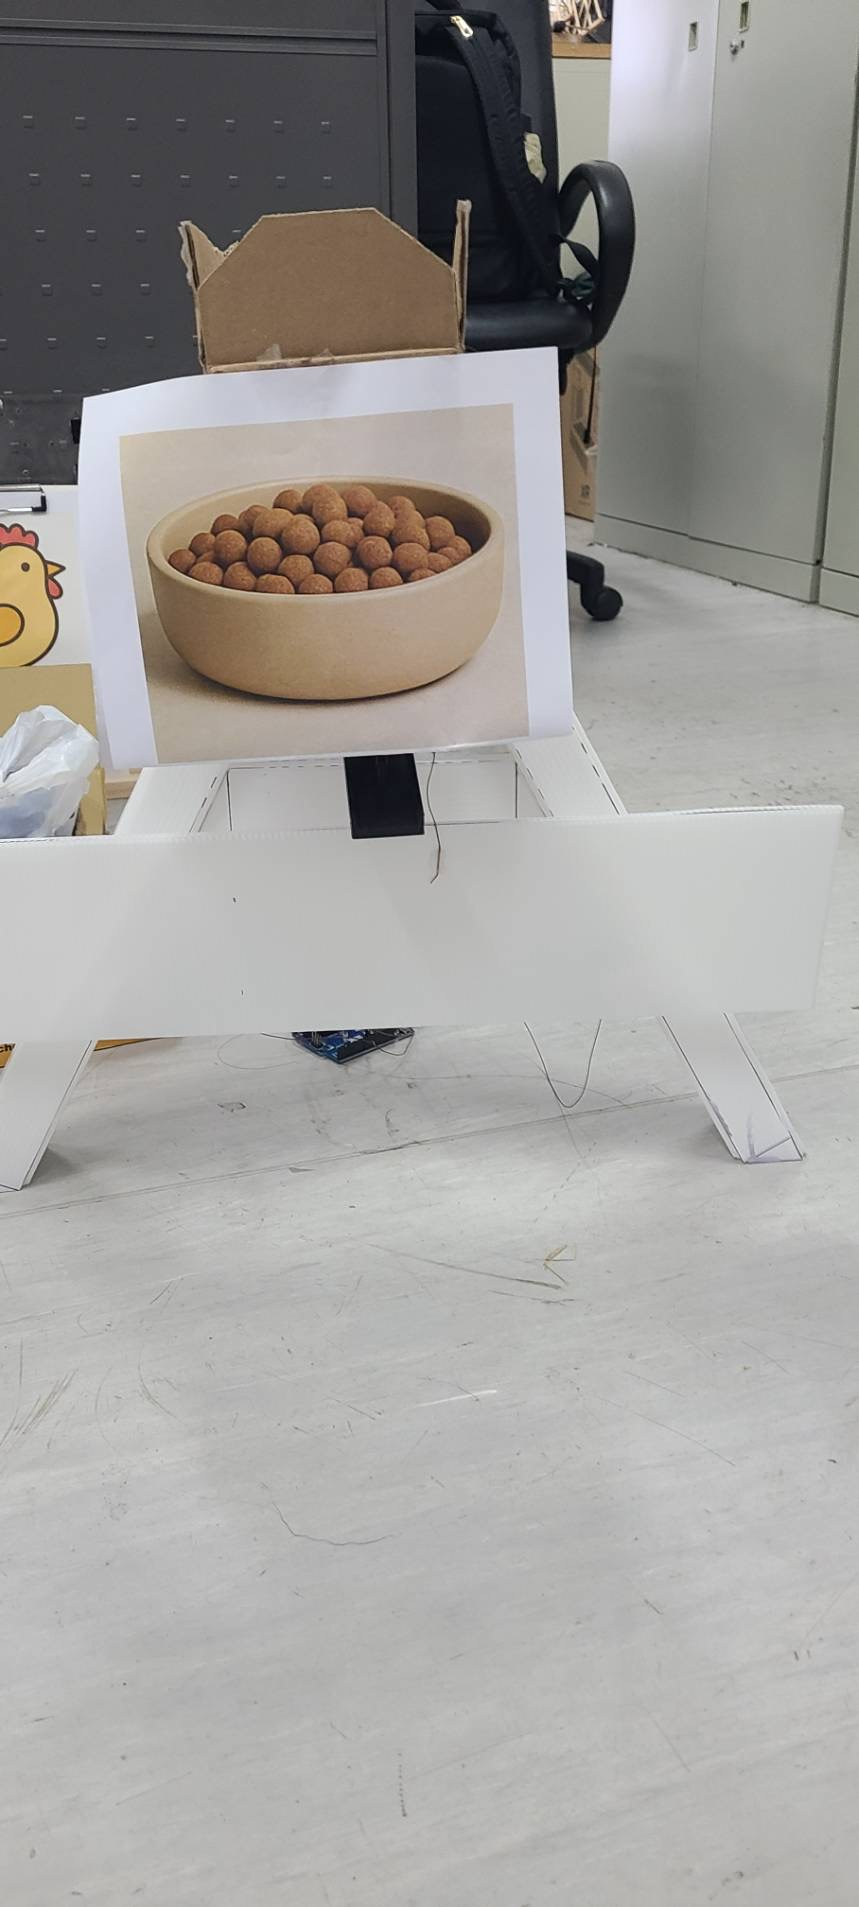machine: (141, 490, 512, 694)
